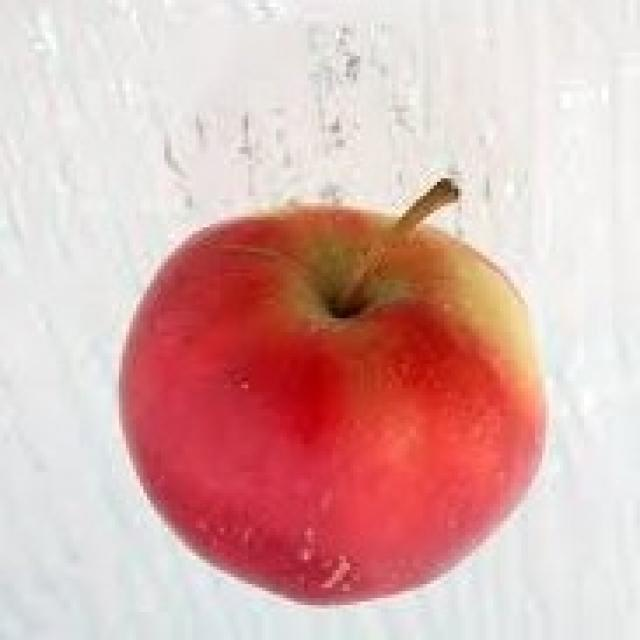apple: (118, 166, 554, 608)
